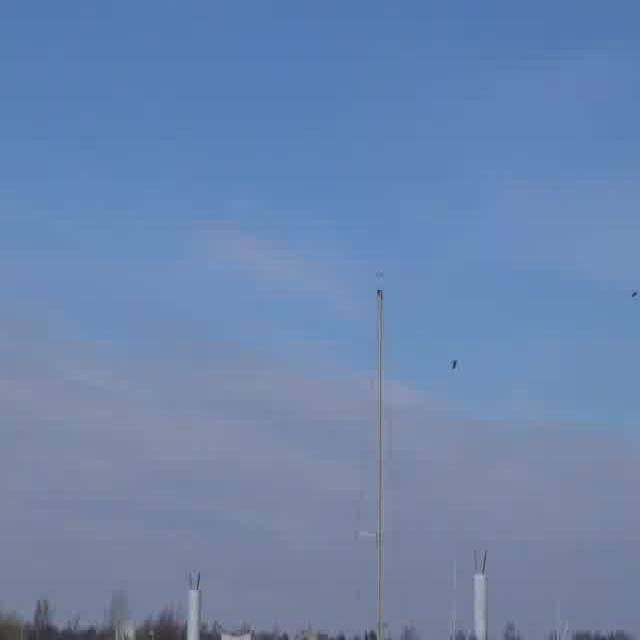bird: (626, 280, 640, 306), (449, 357, 465, 371)
